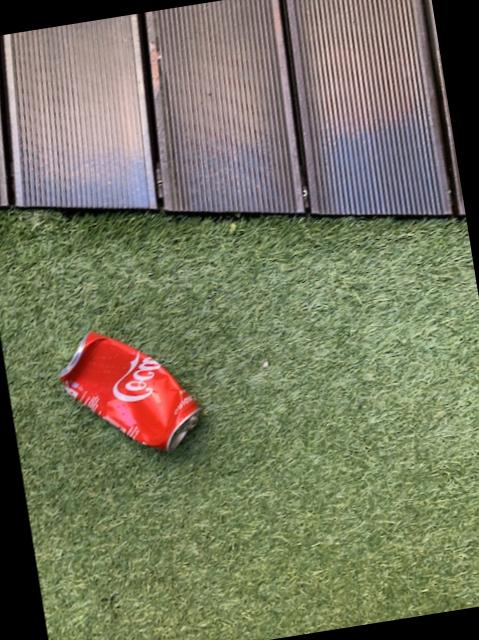metal: (59, 333, 197, 452)
